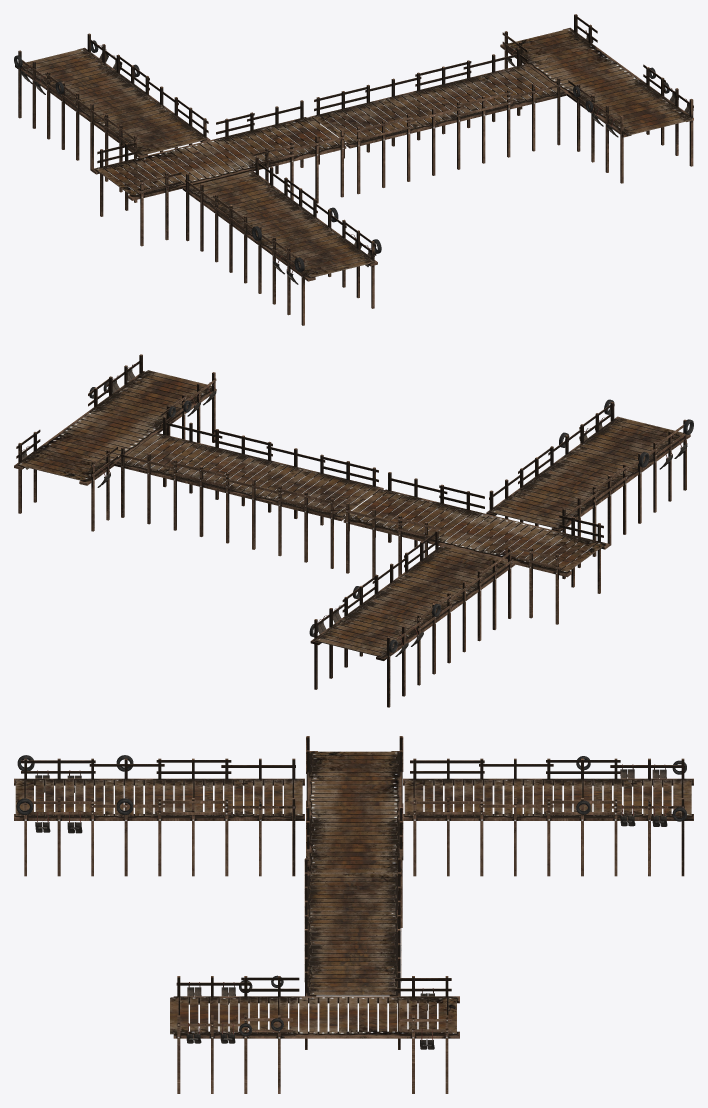
The model's file is harbor.glb.
3 renders of one model, top to bottom at view 1: azimuth 30°, elevation 25°; view 2: azimuth 150°, elevation 25°; view 3: azimuth 270°, elevation 25°, orthographic. The views are drawn at different scales.
Visible parts, largest first — view 1: Object_4, Object_5, Object_3, Object_2; view 2: Object_4, Object_5, Object_2, Object_3; view 3: Object_4, Object_5, Object_2, Object_3.
Part boxes in pixels (x1,y1,x2,y2): Object_4: (15, 33, 566, 325); Object_5: (91, 14, 693, 246); Object_3: (14, 40, 669, 272); Object_2: (21, 30, 693, 284); Object_4: (114, 402, 690, 707); Object_5: (14, 354, 609, 624); Object_2: (22, 364, 687, 656); Object_3: (89, 381, 693, 652); Object_4: (14, 758, 693, 1049); Object_5: (170, 736, 459, 1093); Object_2: (35, 764, 667, 1049); Object_3: (16, 755, 686, 1036).
Size of the model in its own units: 2404 by 305 by 2394.
4 materials, 4 textured.
